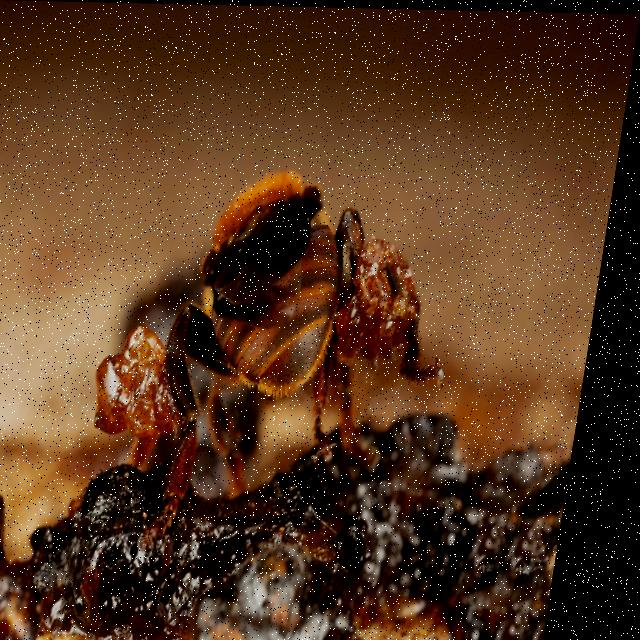Meliponula: (151, 150, 463, 493)
